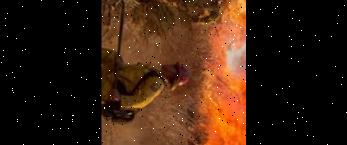fire: (193, 25, 246, 145)
